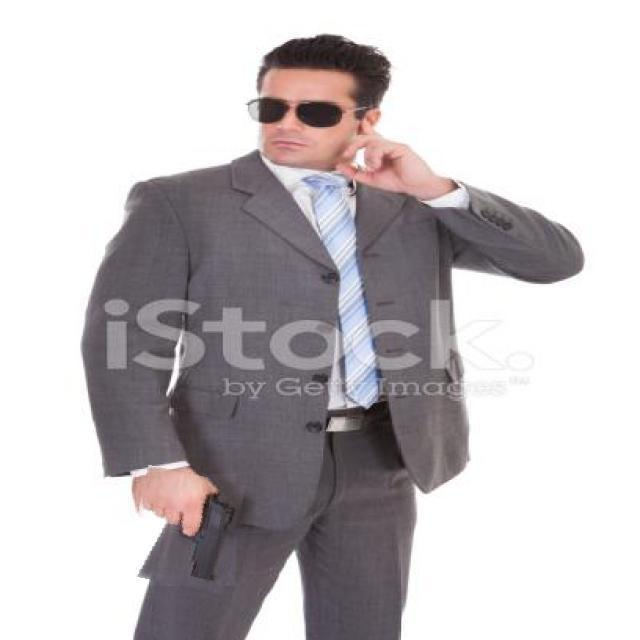handgun: (130, 469, 242, 591)
